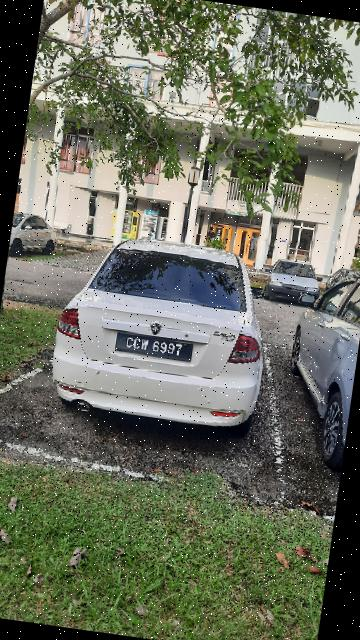License_Plate: (110, 329, 199, 369)
car: (39, 225, 288, 445), (276, 259, 360, 469), (255, 250, 328, 311), (8, 210, 66, 269)
